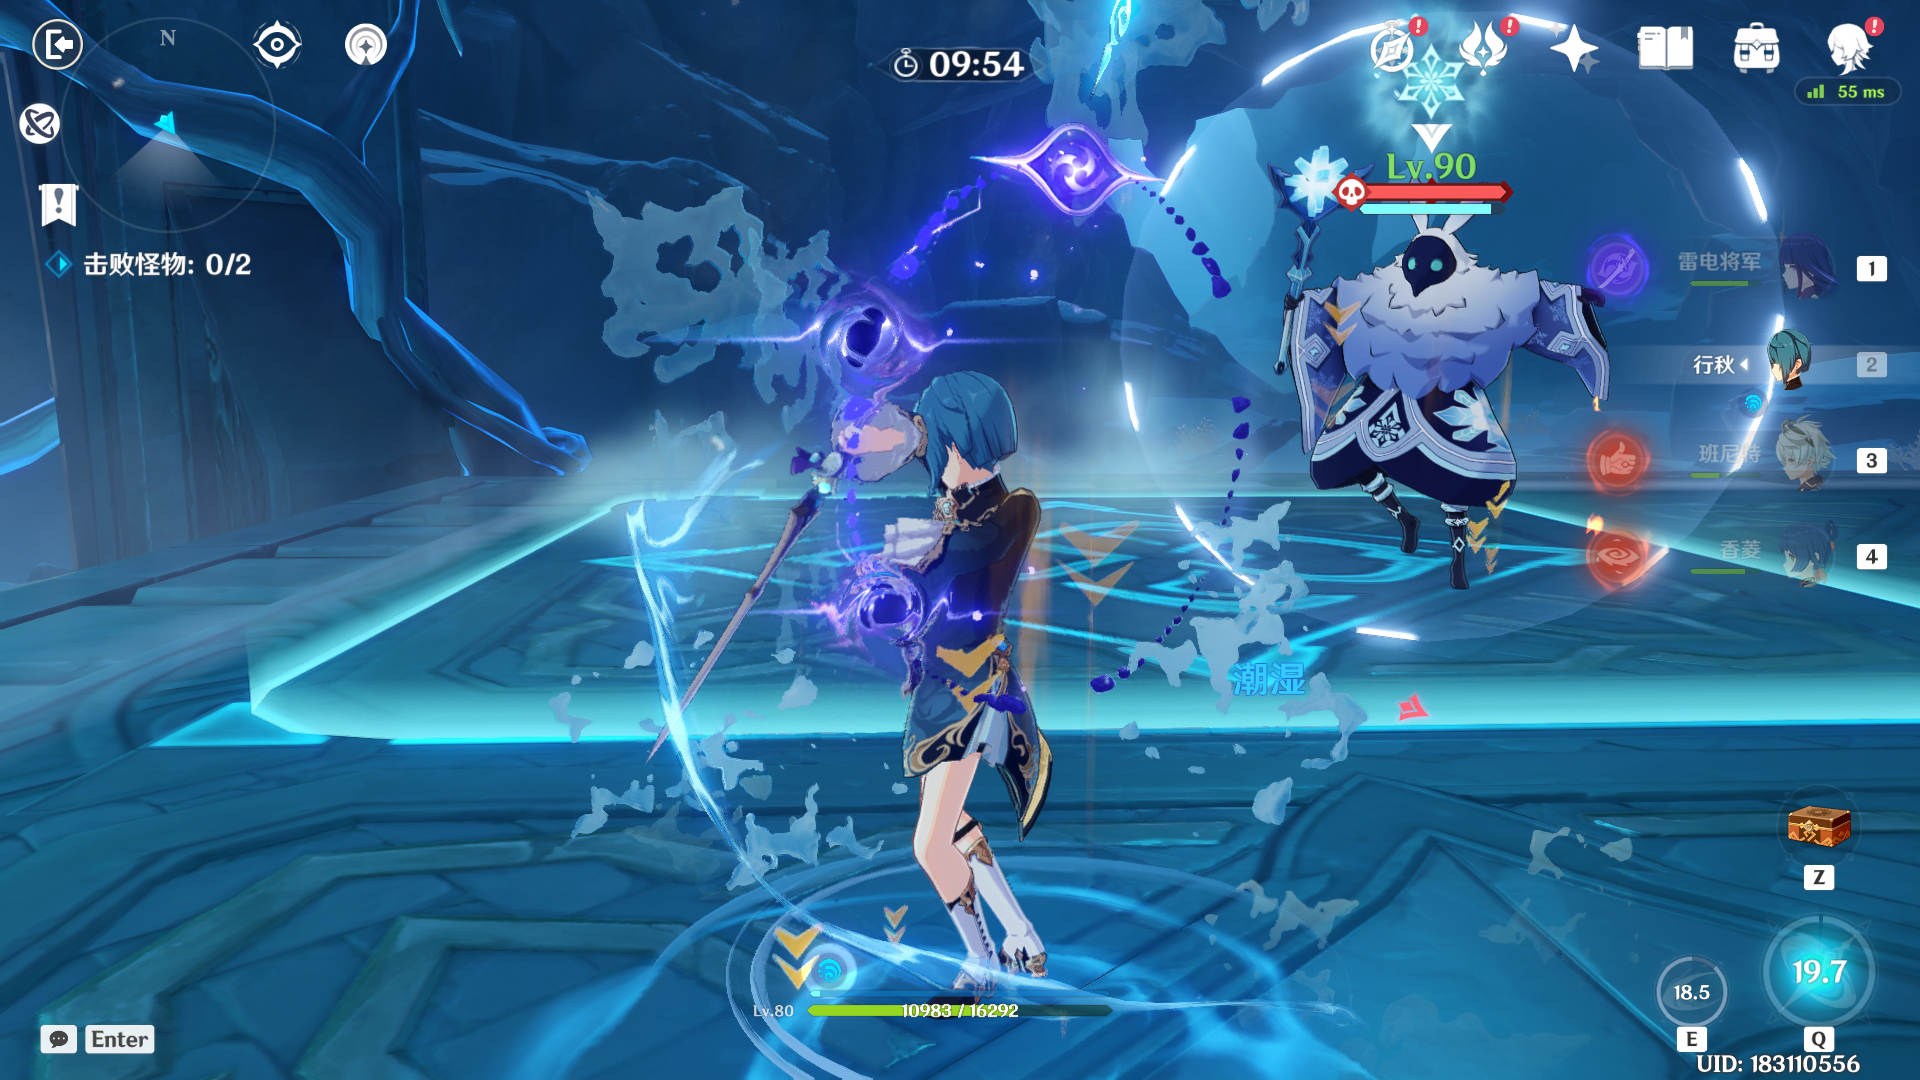caster: (1218, 179, 1597, 616)
character: (702, 298, 1178, 994)
